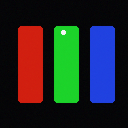0 point: (61, 30, 65, 34)
